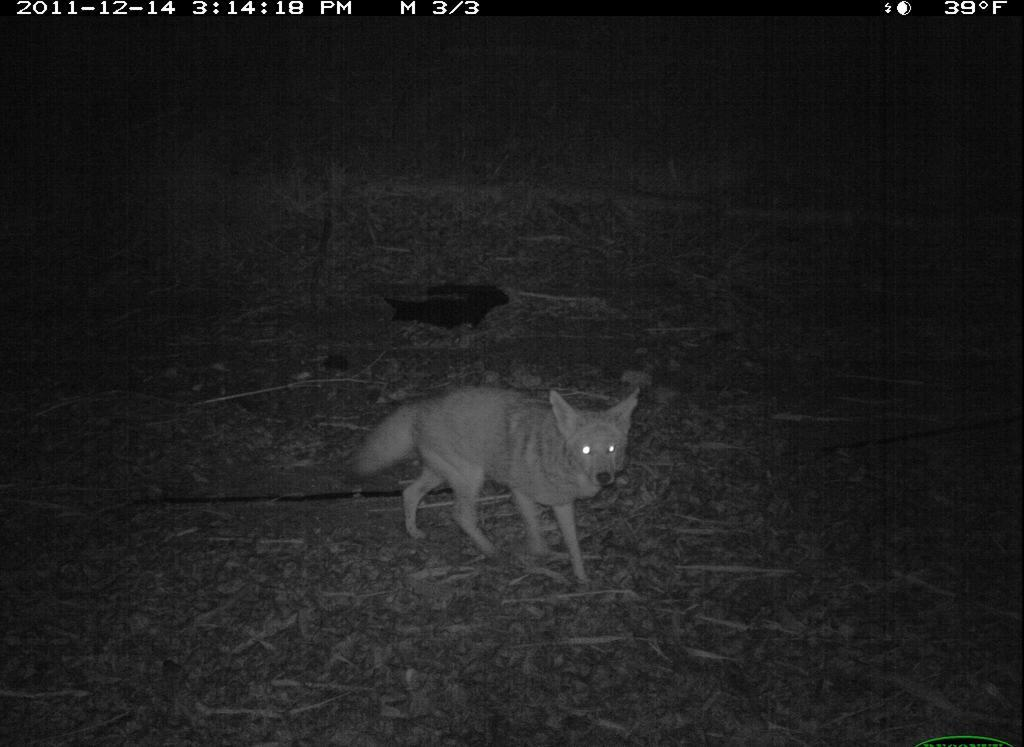coyote: (338, 381, 653, 593)
